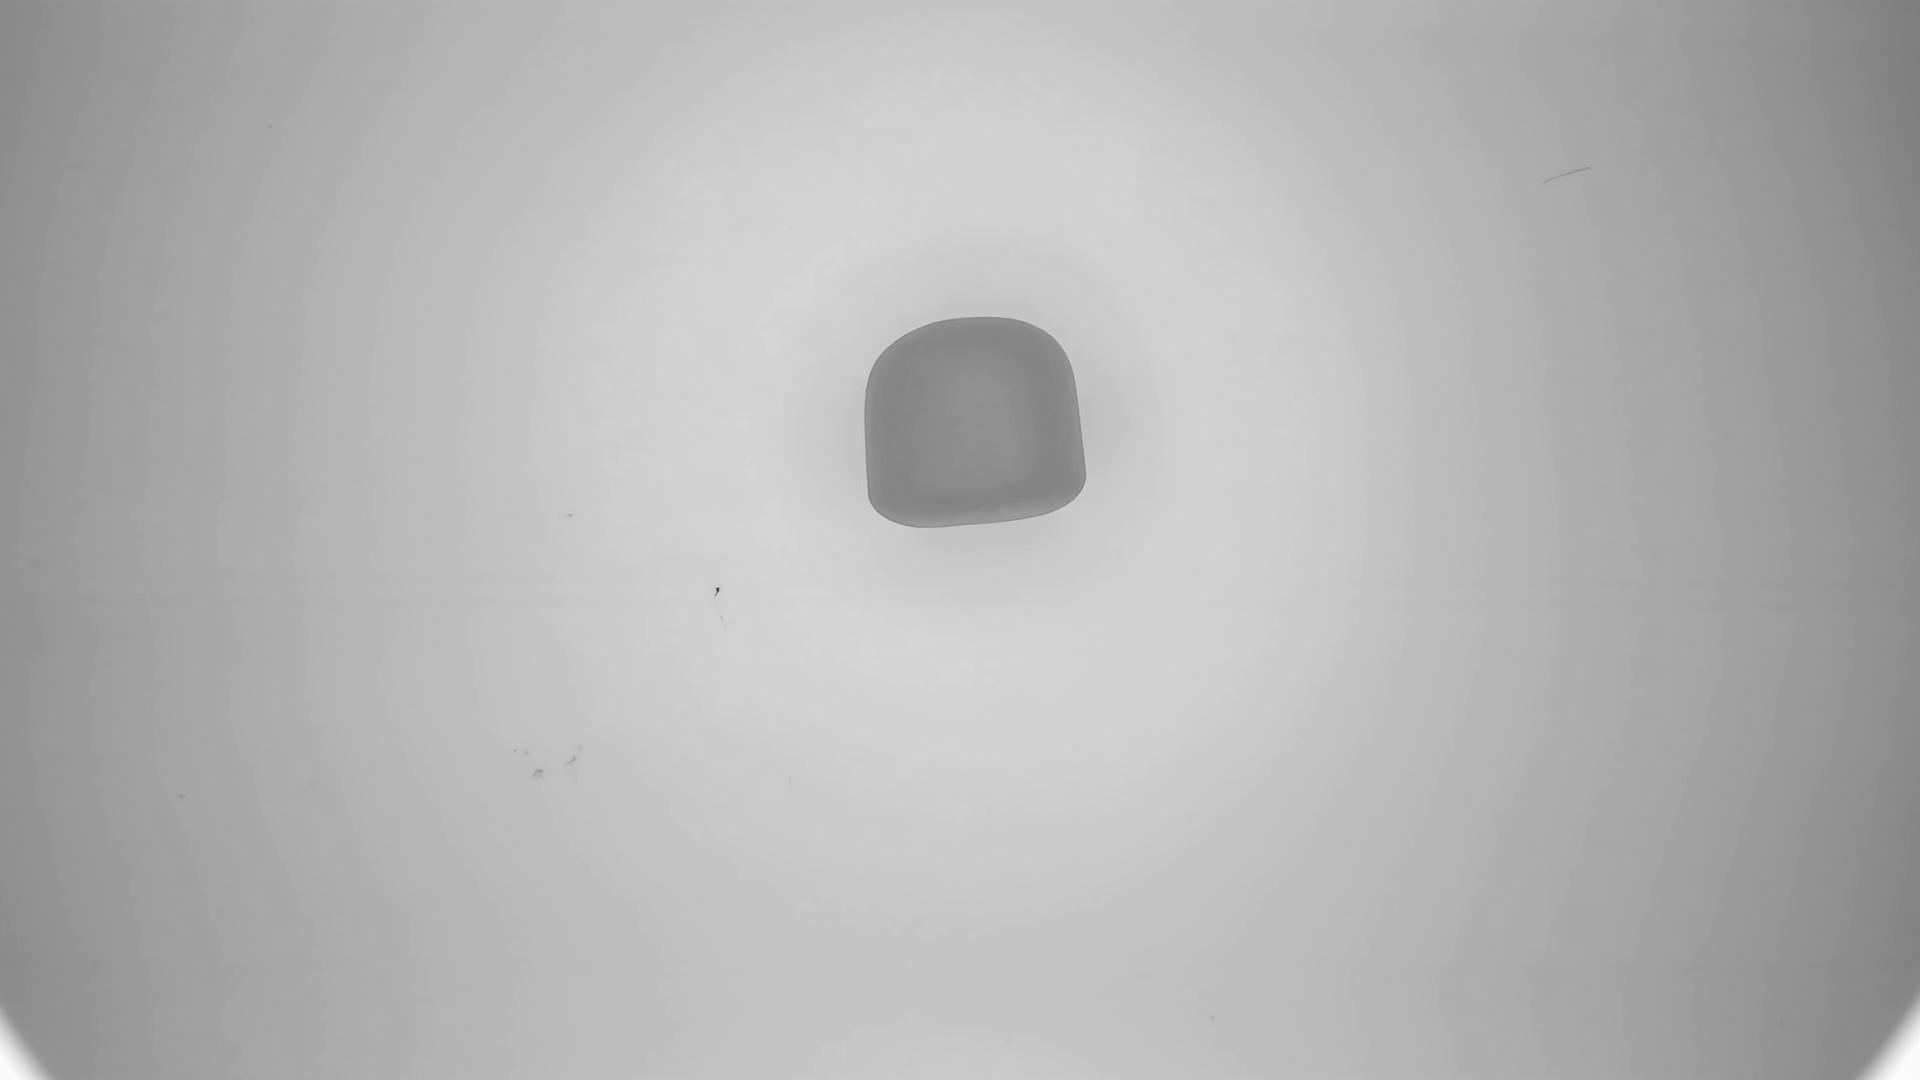normal: (864, 316, 1089, 531)
